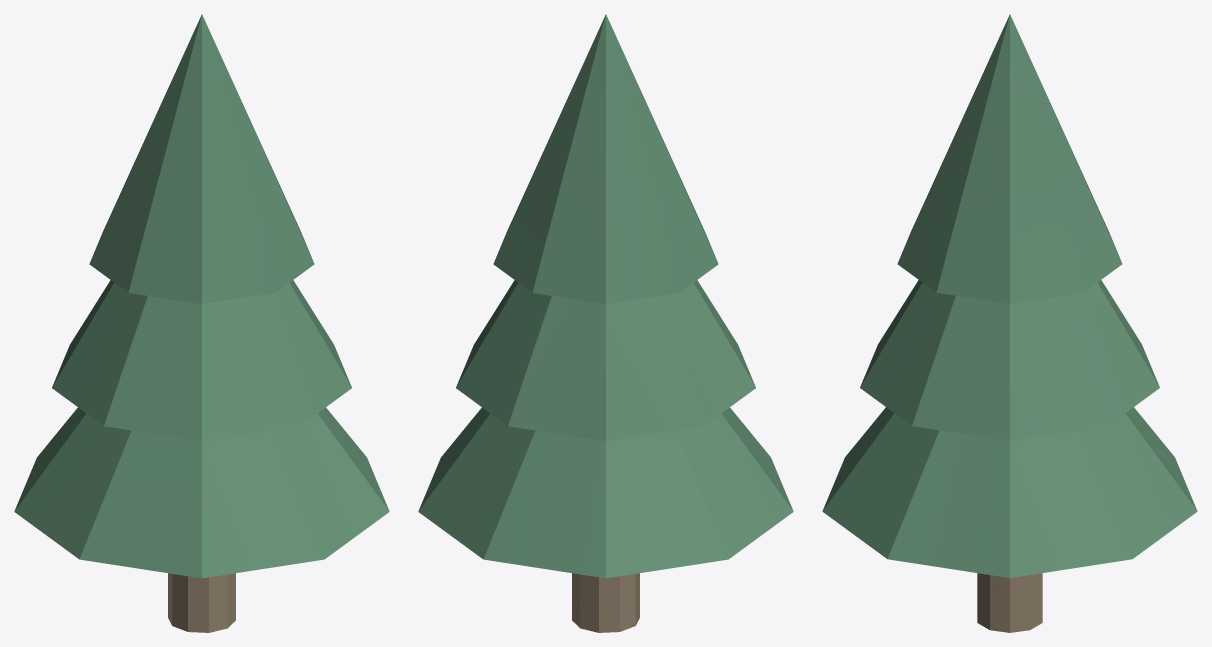
File: pine-02.glb
The picture shows the model from 3 angles, left to right: view 1: azimuth 30°, elevation 25°; view 2: azimuth 150°, elevation 25°; view 3: azimuth 270°, elevation 25°; orthographic projection.
Visible parts, largest first — view 1: world; view 2: world; view 3: world.
Boxes of the visible parts, left/top/right/bottom form: world: left=14, top=14, right=389, bottom=632; world: left=418, top=14, right=793, bottom=632; world: left=822, top=14, right=1197, bottom=632.
Size of the model in its own units: 0.9698 by 1.75 by 0.9848.
